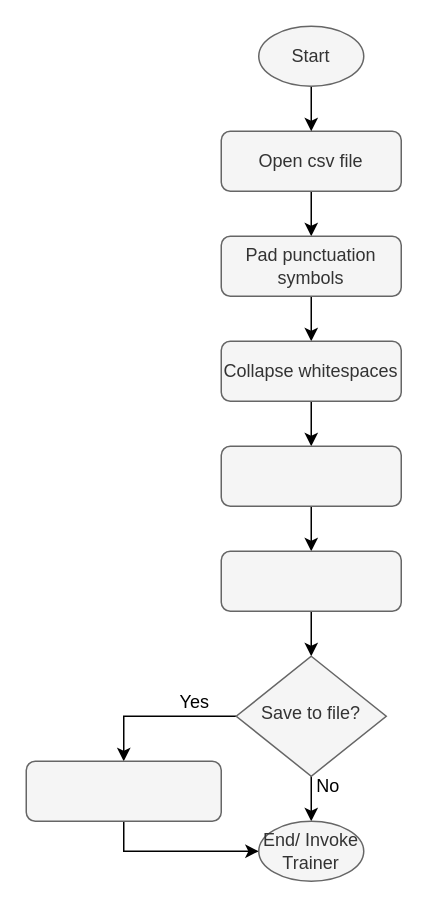
Some shapes in this 428 by 908 pixel diagram are drawn without their labels. Here are the shapes that lost their labels. From the top down, the centre of each, then its label:
At point 310,475: "Tokenize text".
At point 310,580: "Create sequences".
At point 123,790: "Save cleaned and sequenced data to file".
